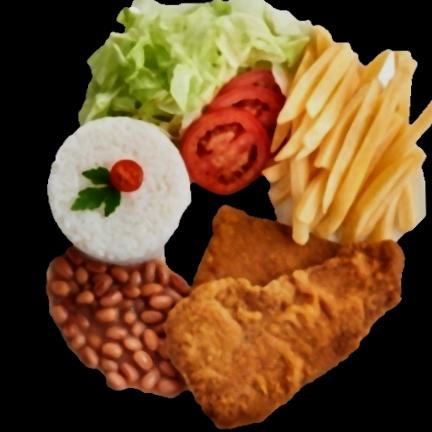beans: (47, 246, 189, 397)
chicken: (164, 207, 403, 428)
potato: (263, 29, 432, 243)
rice: (48, 117, 191, 264)
salad: (79, 0, 311, 140)
tomato: (180, 70, 284, 194), (110, 160, 143, 191)
